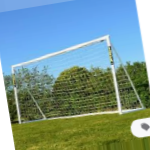goals: (11, 33, 146, 121)
